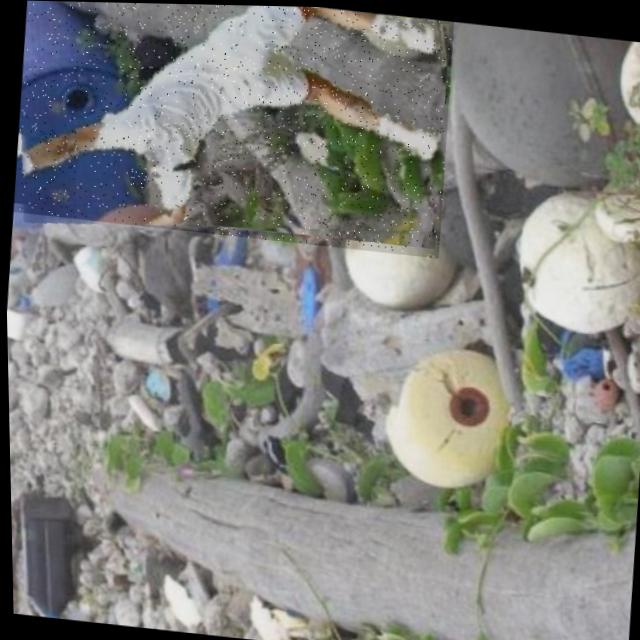Person in Rubble: (8, 0, 457, 255)
